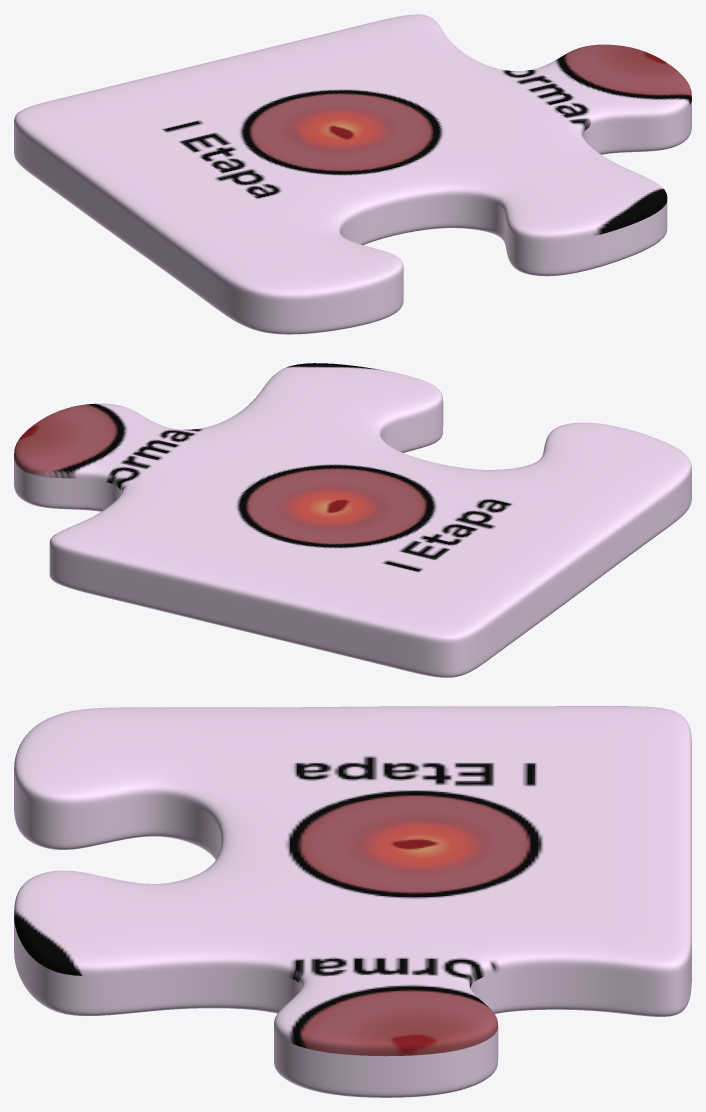
Rendered from Pieza 1.fbx.
3 renders of one model, top to bottom at view 1: azimuth 30°, elevation 25°; view 2: azimuth 150°, elevation 25°; view 3: azimuth 270°, elevation 25°, orthographic. The views are drawn at different scales.
Visible parts, largest first — view 1: Pieza 6; view 2: Pieza 6; view 3: Pieza 6.
Part boxes in pixels (x1=…): Pieza 6: x1=14, y1=14, x2=691, y2=334; Pieza 6: x1=14, y1=363, x2=691, y2=677; Pieza 6: x1=14, y1=706, x2=691, y2=1097.
Size of the model in its own units: 60.61 by 5 by 50.88.
